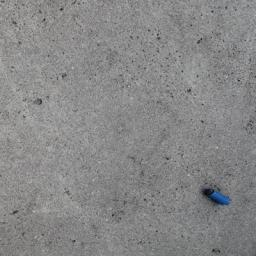FOD: (203, 185, 235, 212)
